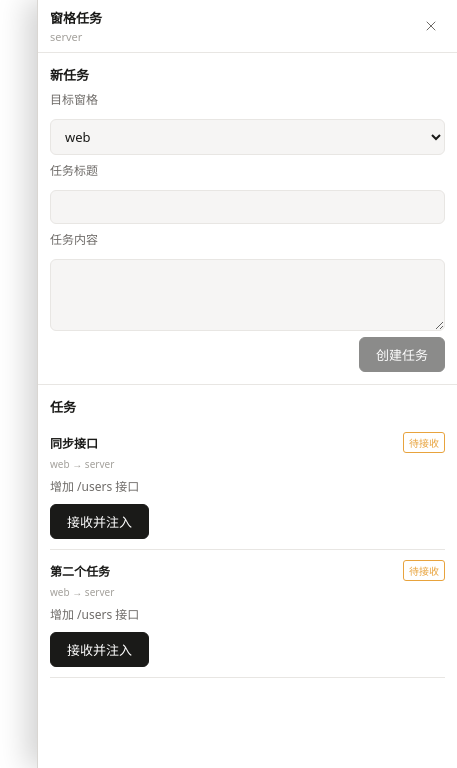
Scenario: PaneTaskDrawer › 旧注入成功后不清除随后打开的其他任务确认
The width and height of the screenshot is (457, 768).
Click the button "接收并注入" below "同步接口". click: (100, 522)
box: [50, 504, 149, 539]
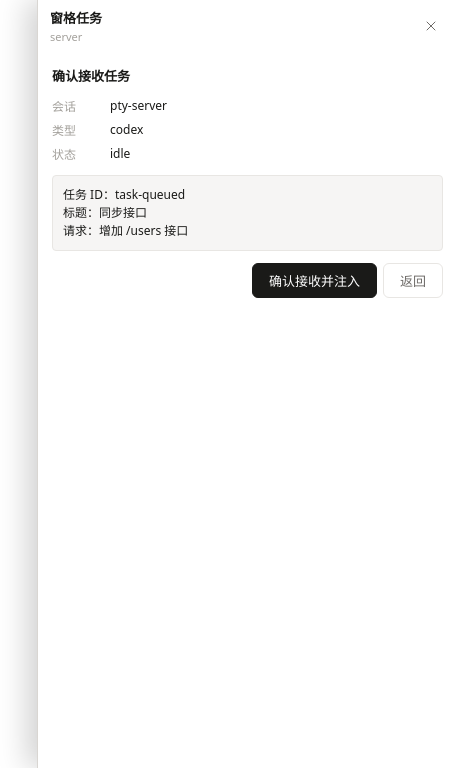
Click the button "确认接收并注入". click: (314, 280)
box: [252, 263, 377, 298]
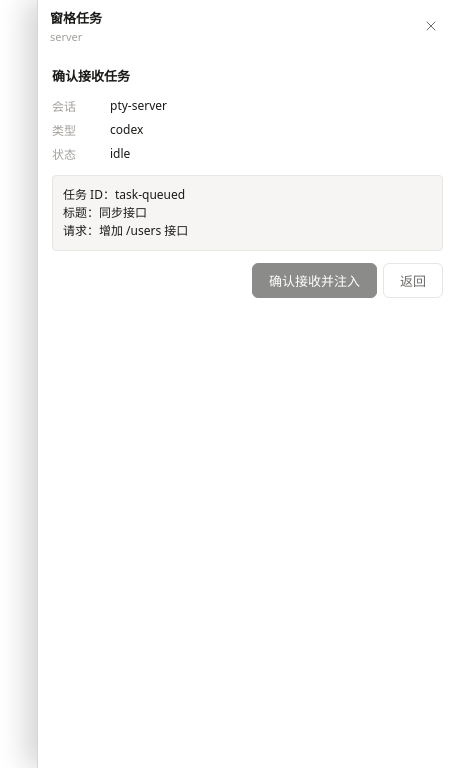
Click the button titled "关闭任务抽屉". click: (431, 26)
box: [417, 12, 445, 40]
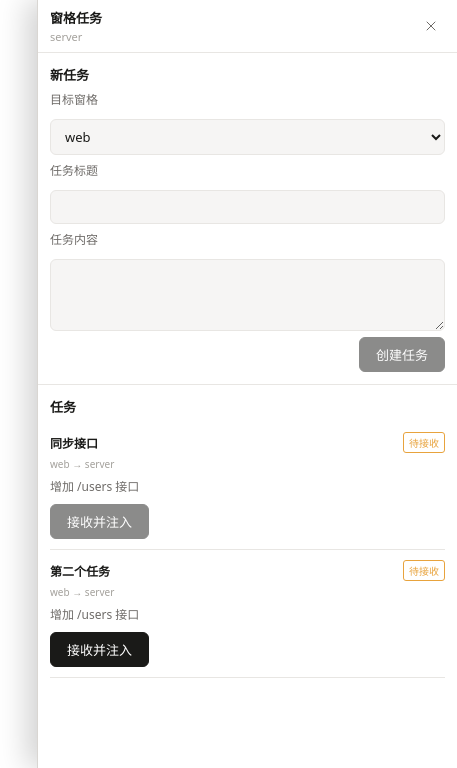
Click the button "接收并注入" below "第二个任务". click: (100, 650)
box: [50, 632, 149, 667]
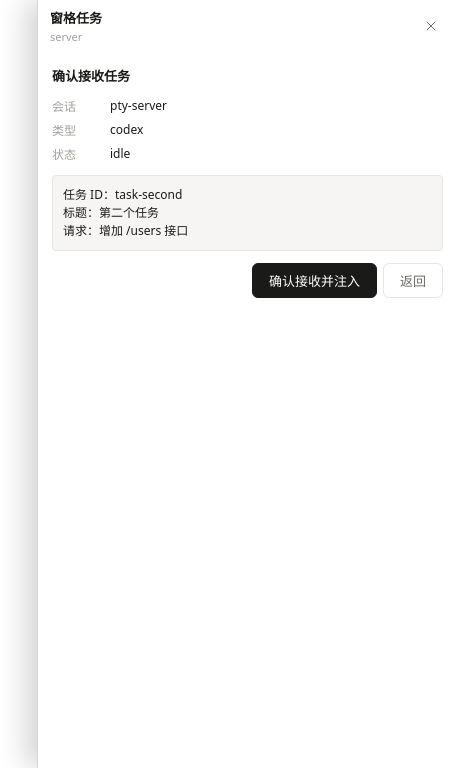
Expected: the text "任务 ID：task-second 标题：第二个任务 请求：增加 /users 接口" is shown, [52, 175, 443, 251]
Expected: the button "确认接收并注入" is shown, [252, 263, 377, 298]
